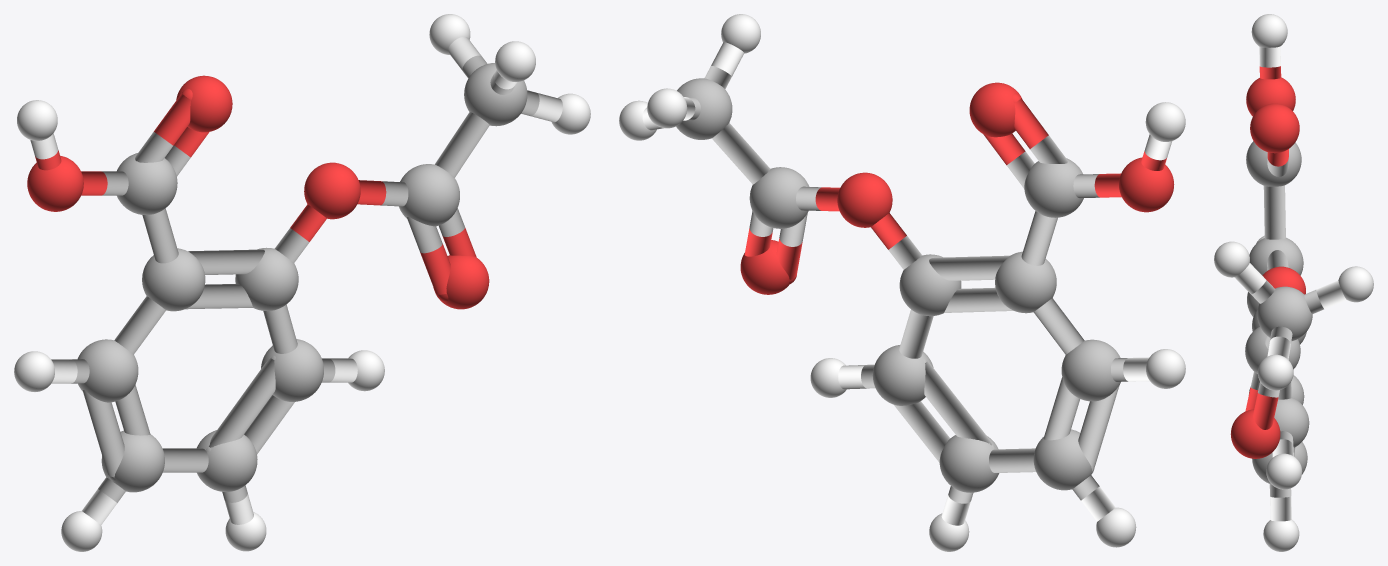
File: aspirin.glb
3 renders of one model, left to right at view 1: azimuth 30°, elevation 25°; view 2: azimuth 150°, elevation 25°; view 3: azimuth 270°, elevation 25°, orthographic. The views are drawn at different scales.
Parts seen in each view (by area): view 1: Object_4, Object_6, Object_7, Object_8; view 2: Object_4, Object_6, Object_7, Object_8; view 3: Object_4, Object_6, Object_7, Object_8.
Boxes of the visible parts, box(x1,y1,x2,y2) form: Object_4: box(71, 55, 539, 502); Object_6: box(27, 75, 489, 309); Object_7: box(14, 14, 590, 551); Object_8: box(30, 36, 562, 524); Object_4: box(676, 65, 1127, 503); Object_6: box(740, 82, 1174, 294); Object_7: box(619, 14, 1185, 551); Object_8: box(642, 42, 1172, 525); Object_4: box(1245, 141, 1323, 497); Object_6: box(1230, 66, 1305, 458); Object_7: box(1214, 14, 1373, 551); Object_8: box(1235, 46, 1346, 521).
Size of the model in its own units: 8.16 by 6.87 by 2.25.
